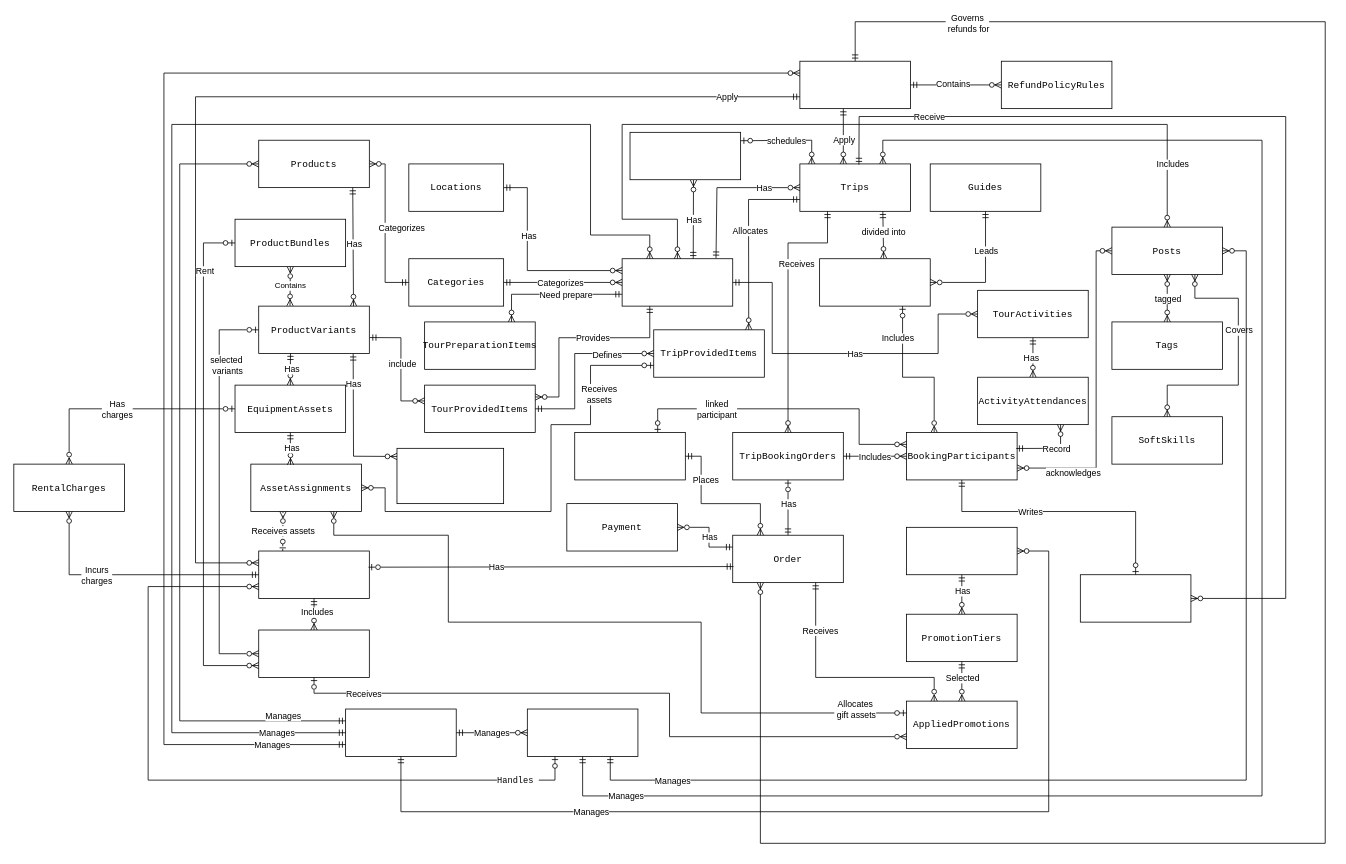
The diagram is 1346 pixels wide and 864 high, and some of its shapes have lost their labels. Here are the shapes that lost their labels. From the top down, the box of each, then its label:
(799, 60, 910, 109): RefundPolicies
(629, 132, 741, 180): TourRecurrenceRules
(621, 258, 733, 306): Tours
(819, 258, 930, 306): TripGroups
(396, 448, 504, 504): VariantImages
(574, 432, 685, 480): Customers
(906, 527, 1017, 575): Promotions
(258, 550, 369, 598): RentalOrders
(1080, 574, 1191, 622): Reviews
(258, 629, 369, 677): RentalOrderItems
(345, 708, 456, 756): Admins
(527, 708, 638, 756): StaffMembers
